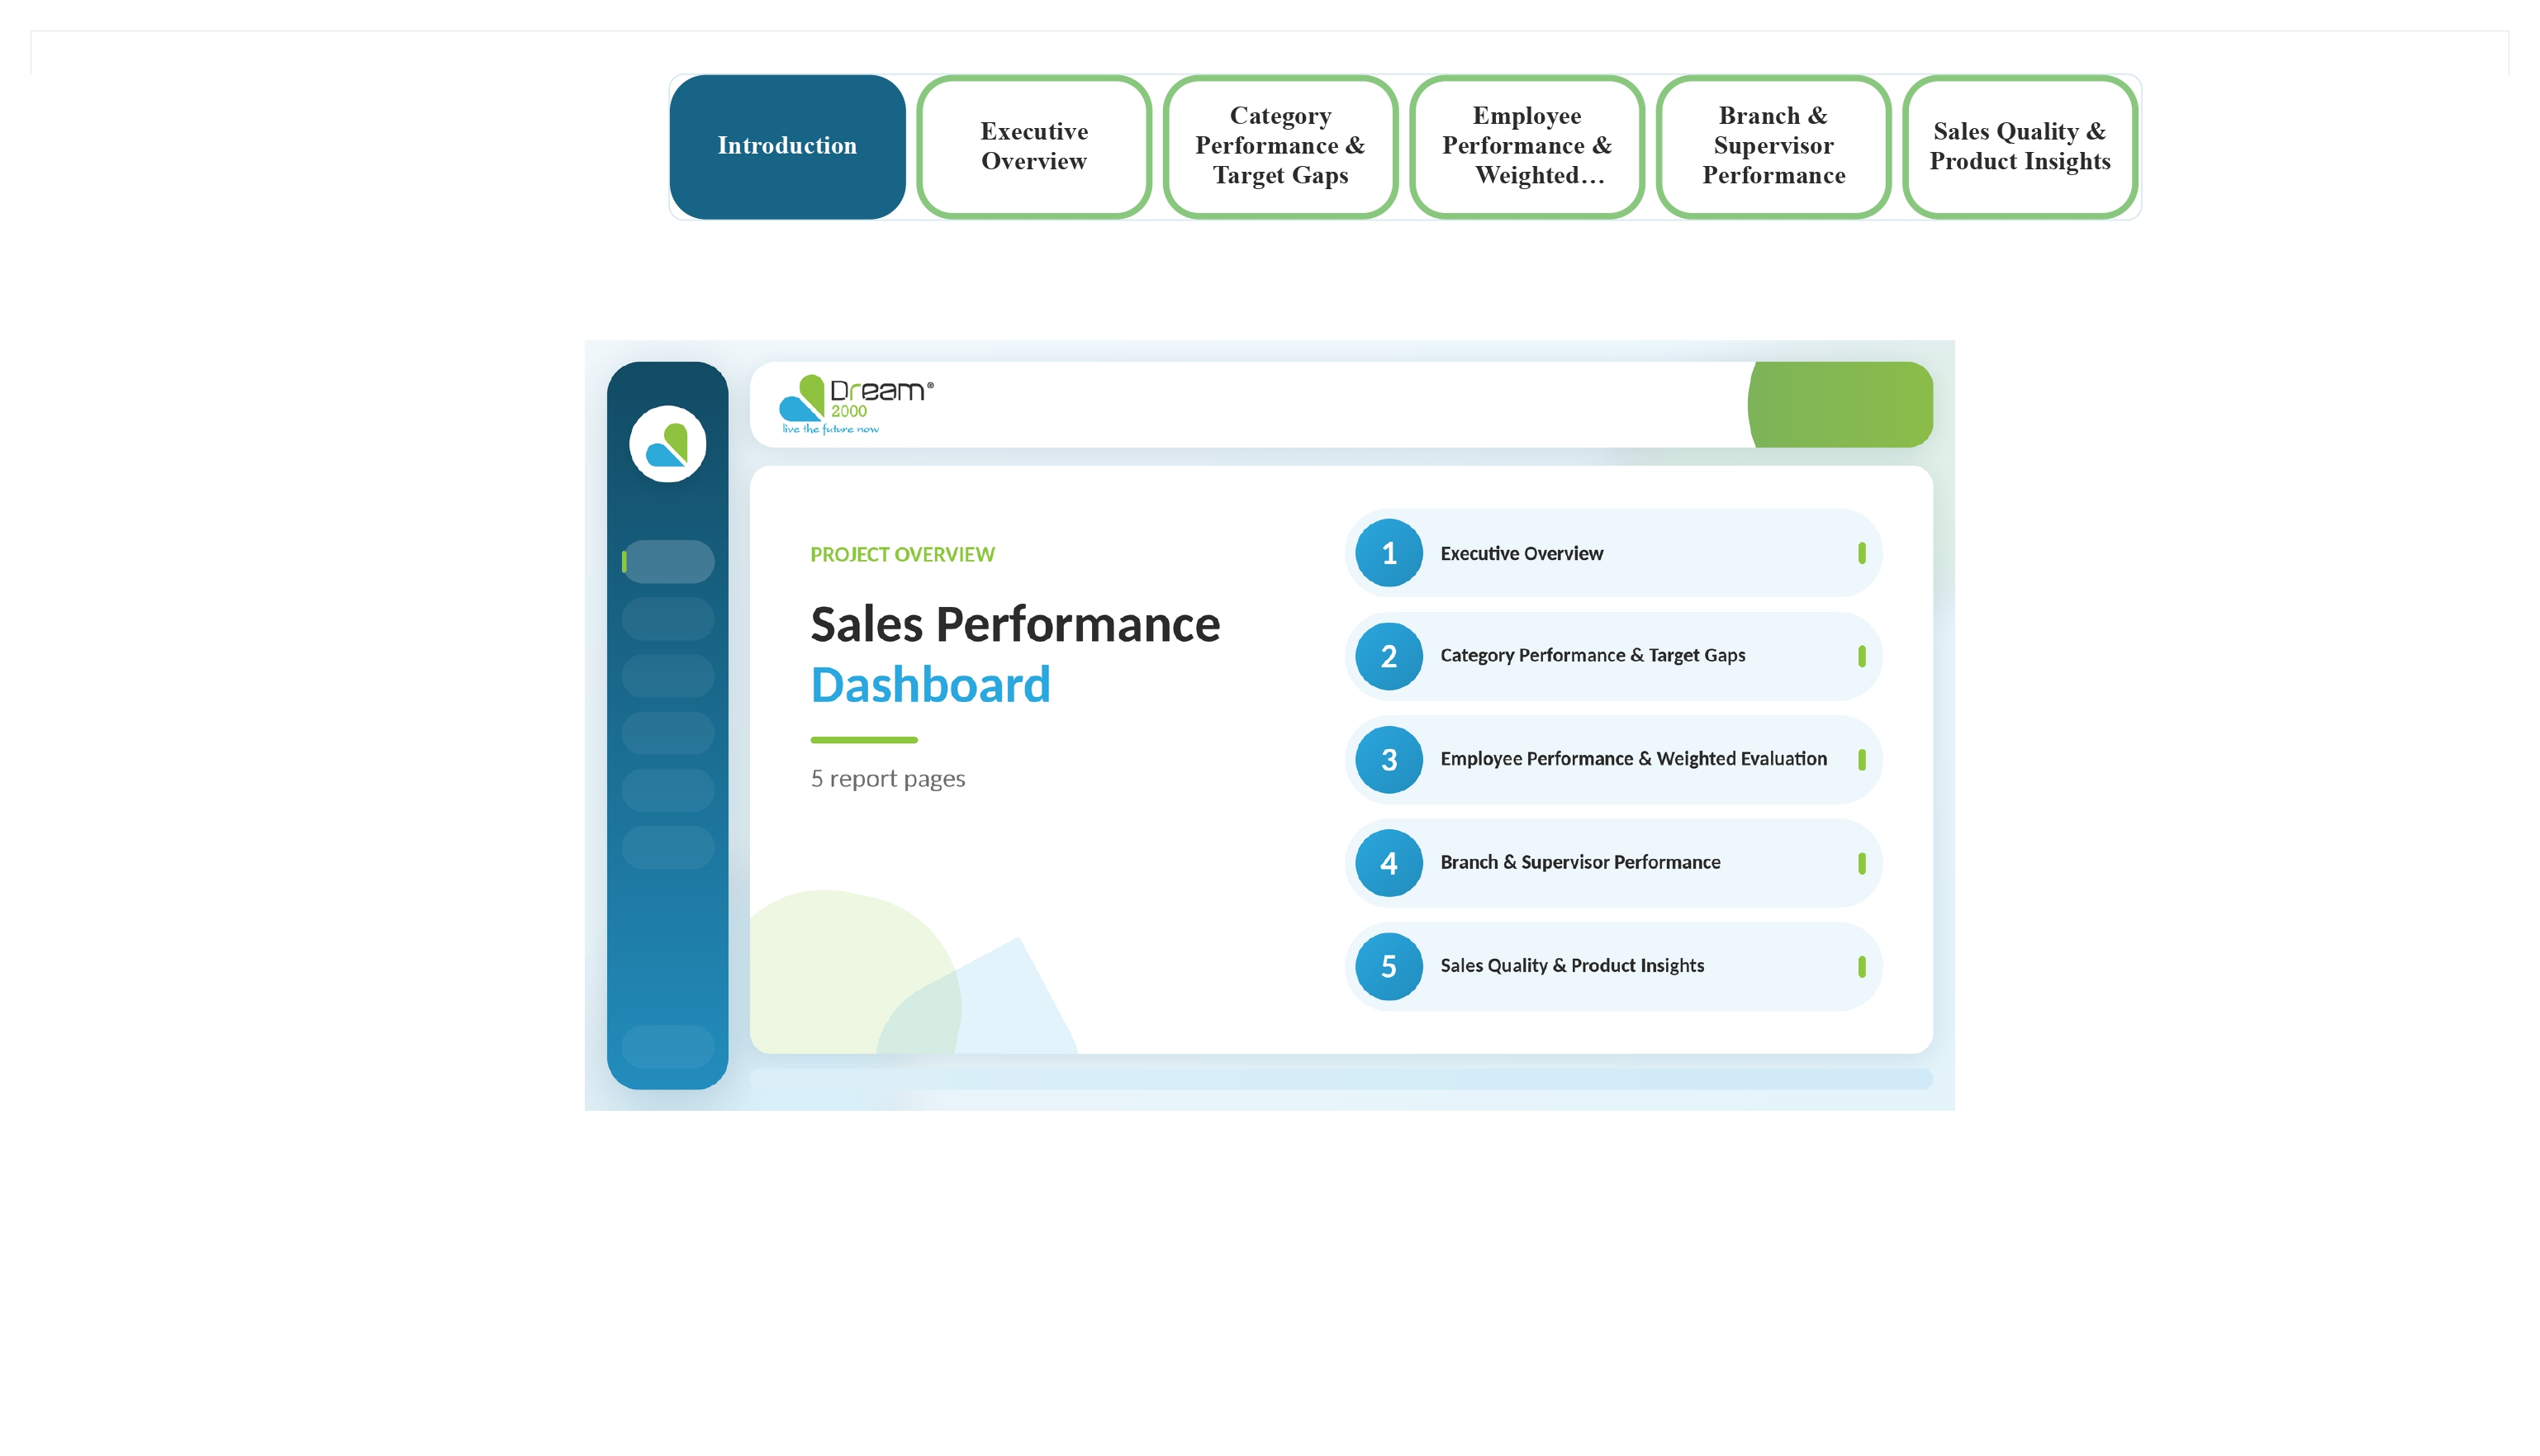

What the dashboard file says about the page in this screenshot:
{"tool":"powerbi","page":{"name":"Introduction","canvas":[1920,1080],"ordinal":0},"visuals":[{"type":"pageNavigator","box":[494,32.6,1141.9,114],"z":0}]}

Visuals, with their boxes on the page's 1920x1080 design canvas (x1, y1, x2, y2). These are canvas units, not pixel positions in the 2540x1456 screenshot, which may show the page scaled, cropped or inside an application window:
pageNavigator: {"left": 494, "top": 33, "right": 1636, "bottom": 147}
